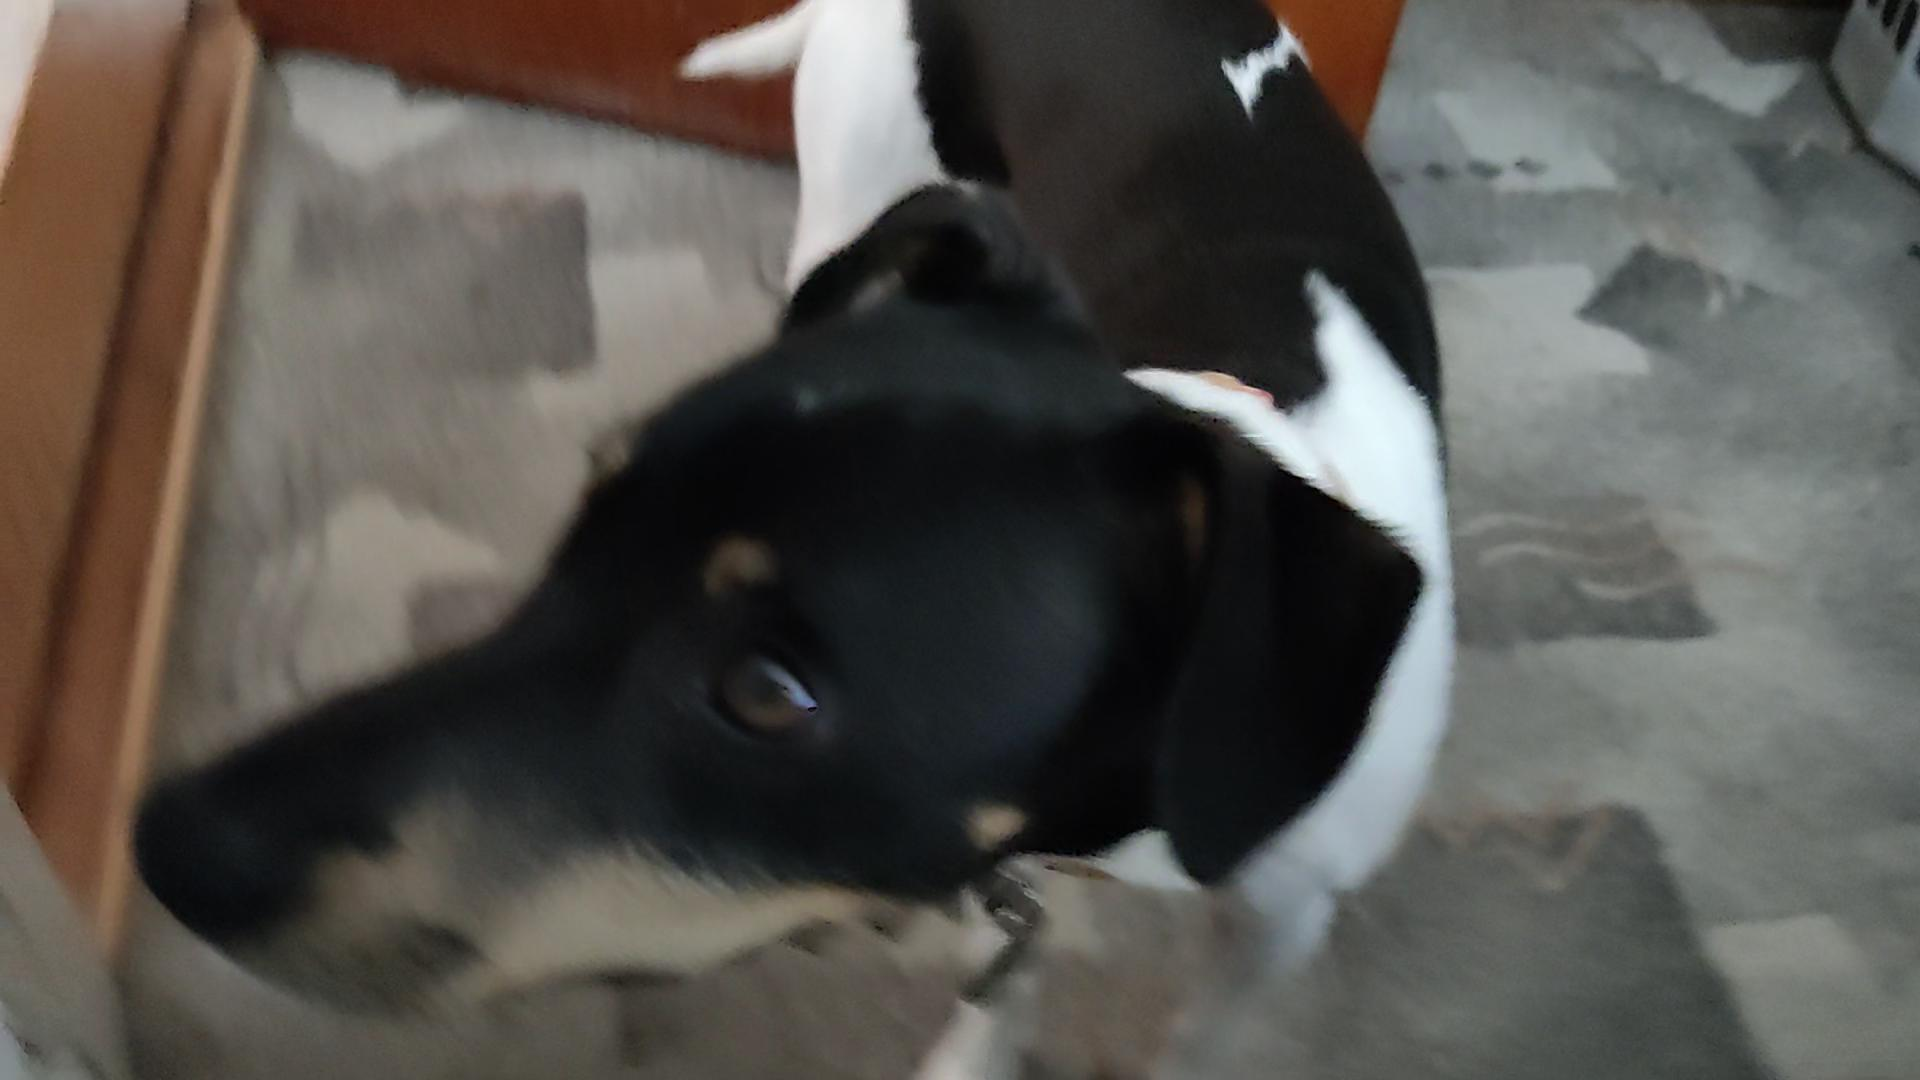Dog: (95, 0, 1509, 1079)
